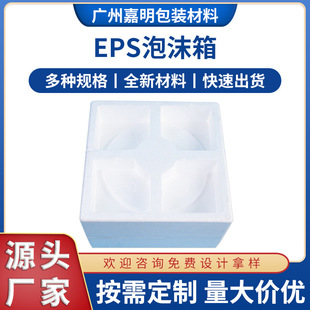Boxes: (80, 101, 231, 248)
